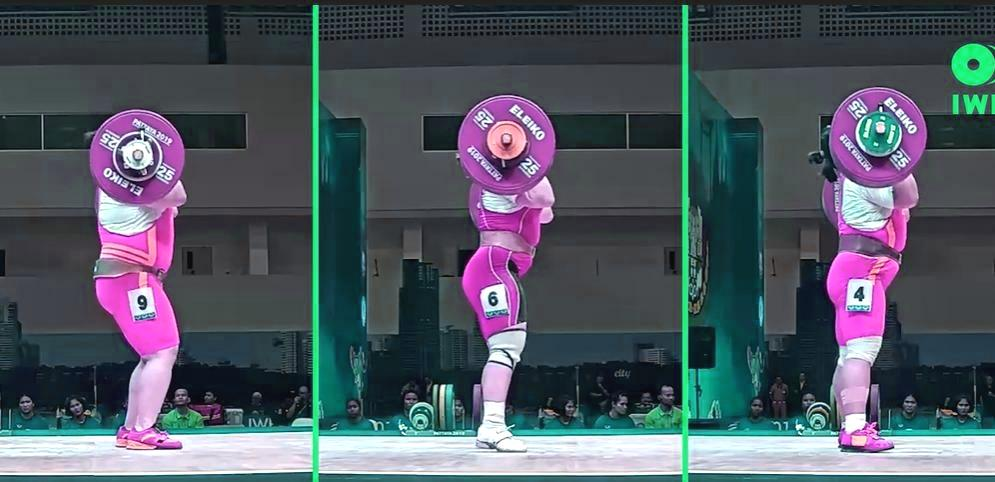Barbell: (500, 131, 517, 149), (133, 147, 148, 164), (876, 119, 889, 138)
